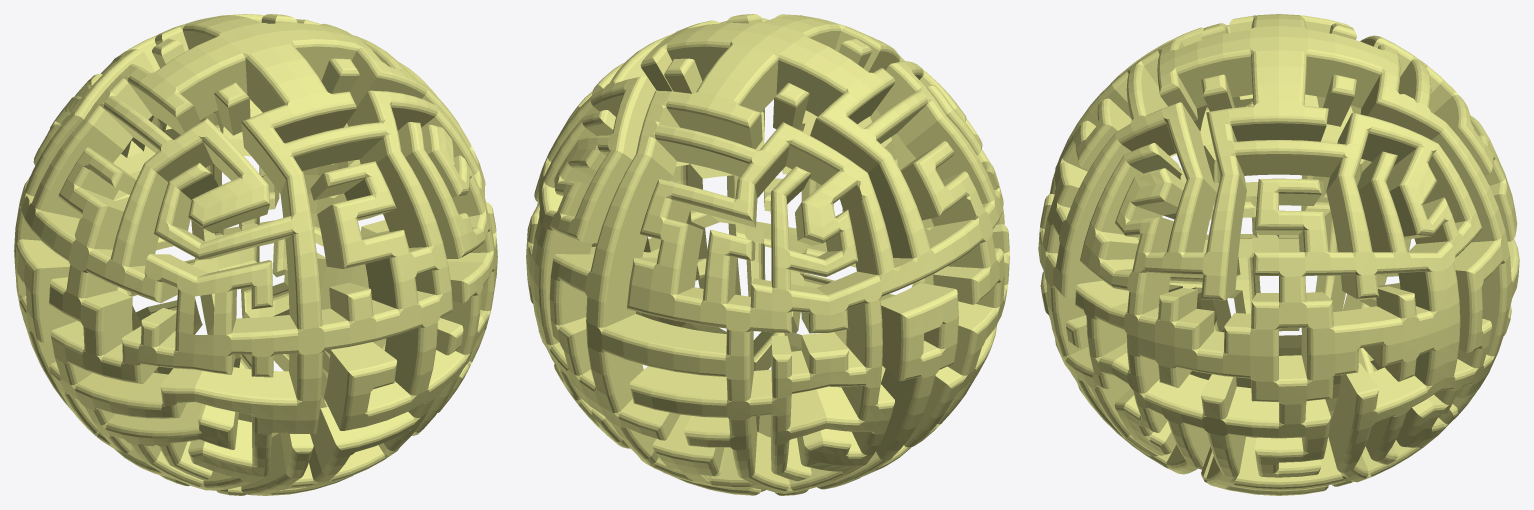
Rendered from SpherePlanet02.FBX.
3 renders of one model, left to right at view 1: azimuth 30°, elevation 25°; view 2: azimuth 150°, elevation 25°; view 3: azimuth 270°, elevation 25°, orthographic.
Visible parts, largest first — view 1: Object008; view 2: Object008; view 3: Object008.
Boxes of the visible parts, x1,y1,x2,y2 form: Object008: [14, 14, 497, 495]; Object008: [526, 14, 1009, 495]; Object008: [1038, 14, 1519, 495].
Bounding box in the file's own units: 49.82 × 49.92 × 49.85.
